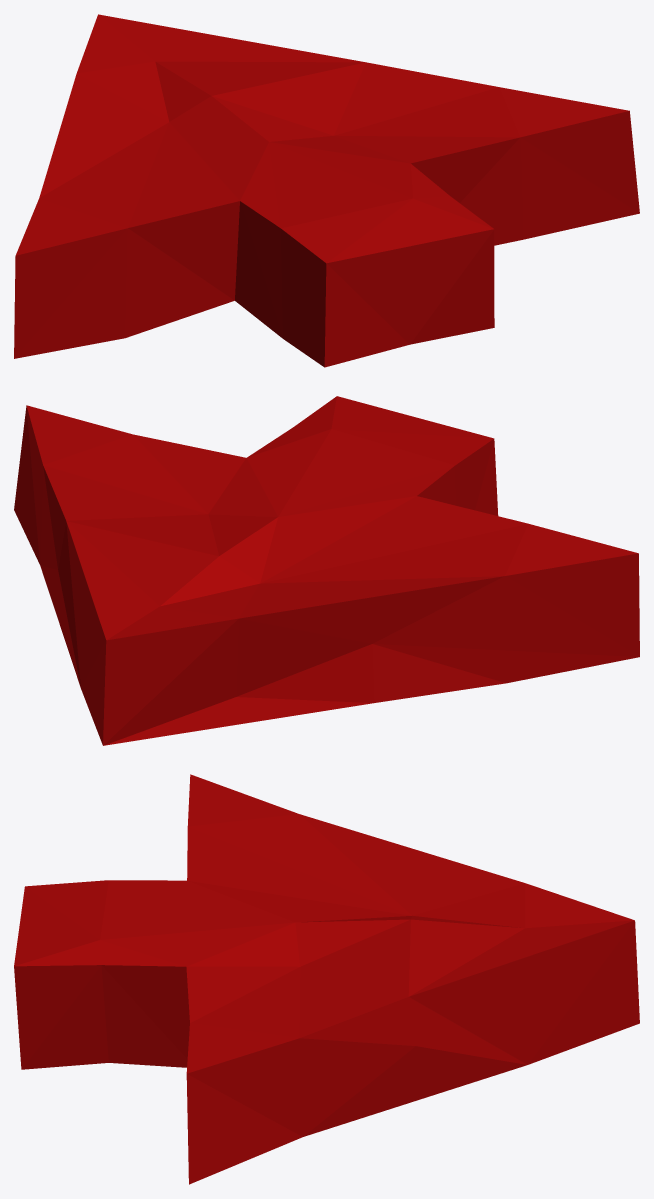
Rendered from Arrow.fbx.
The picture shows the model from 3 angles, top to bottom: view 1: azimuth 30°, elevation 25°; view 2: azimuth 150°, elevation 25°; view 3: azimuth 270°, elevation 25°; orthographic projection.
Parts seen in each view (by area): view 1: arrow; view 2: arrow; view 3: arrow.
Boxes of the visible parts, x1,y1,x2,y2 form: arrow: (14,14,639,367); arrow: (14,396,639,745); arrow: (14,774,639,1184).
Size of the model in its own units: 29.86 by 5.21 by 26.11.
